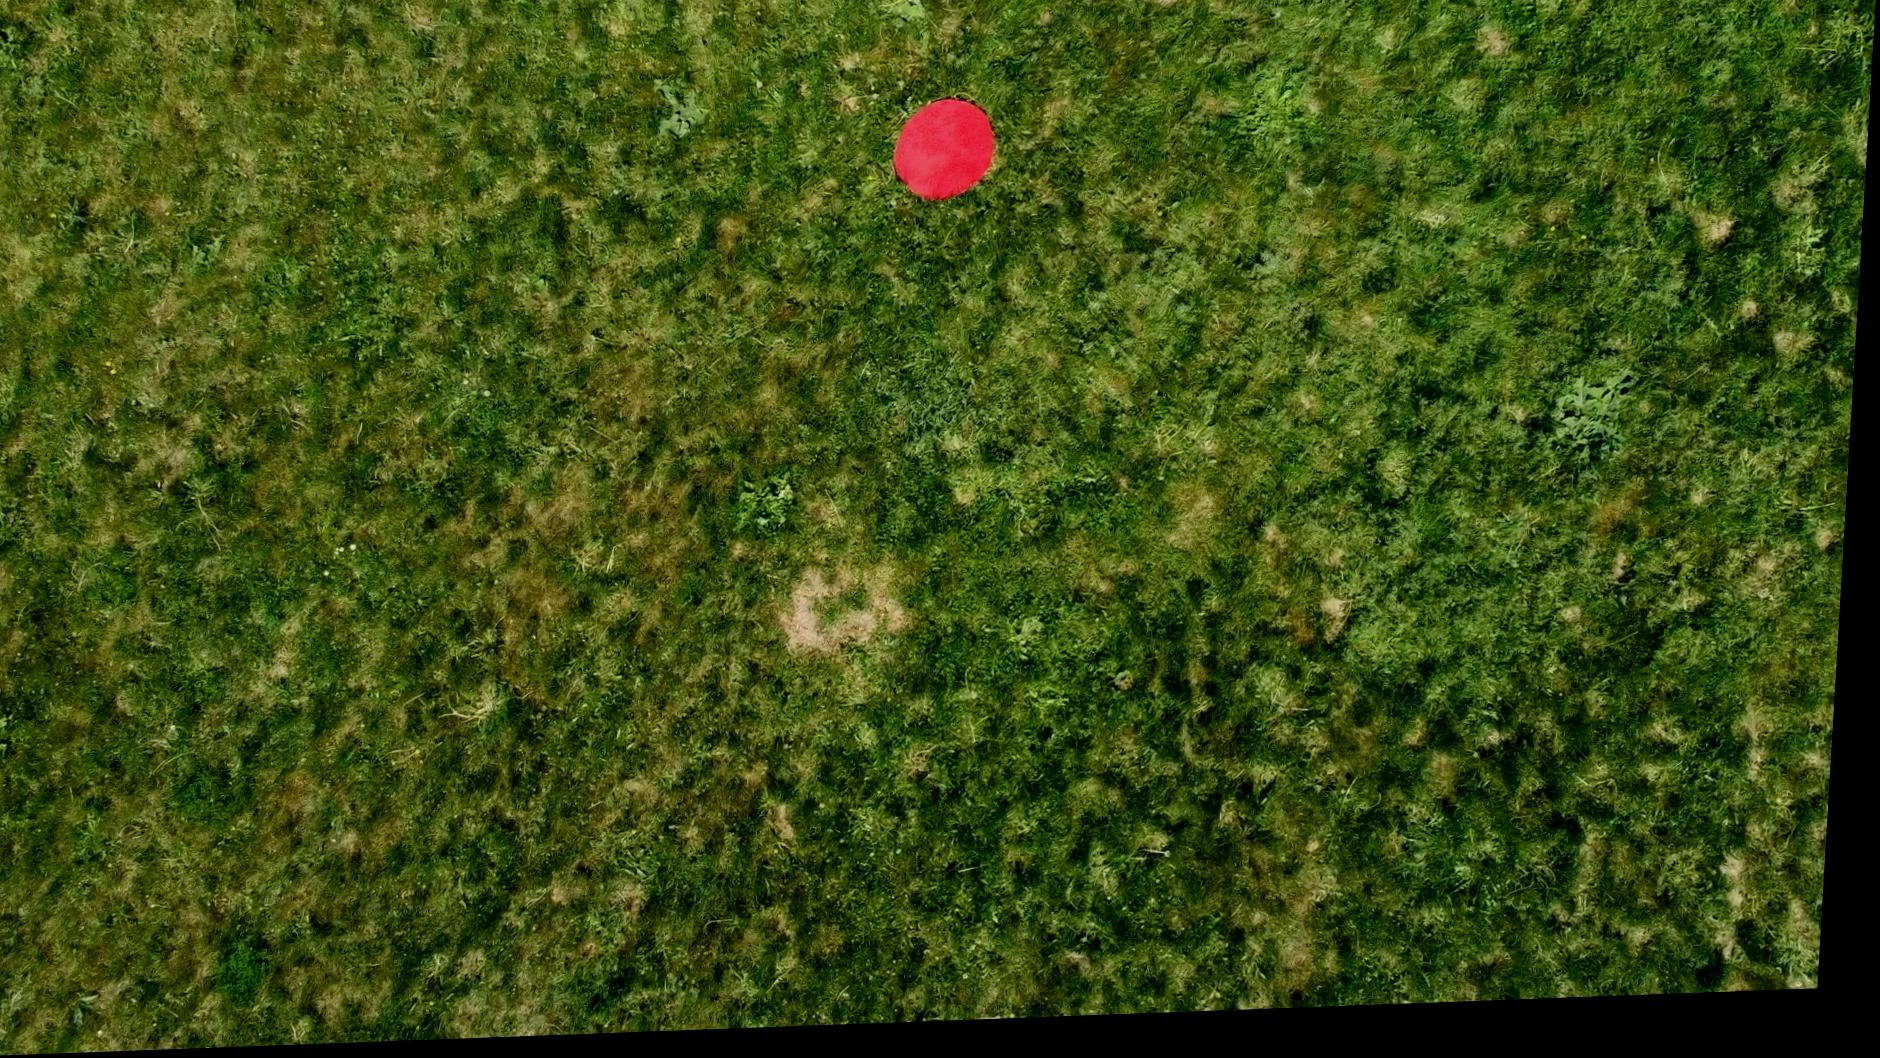Red: (892, 98, 1005, 211)
